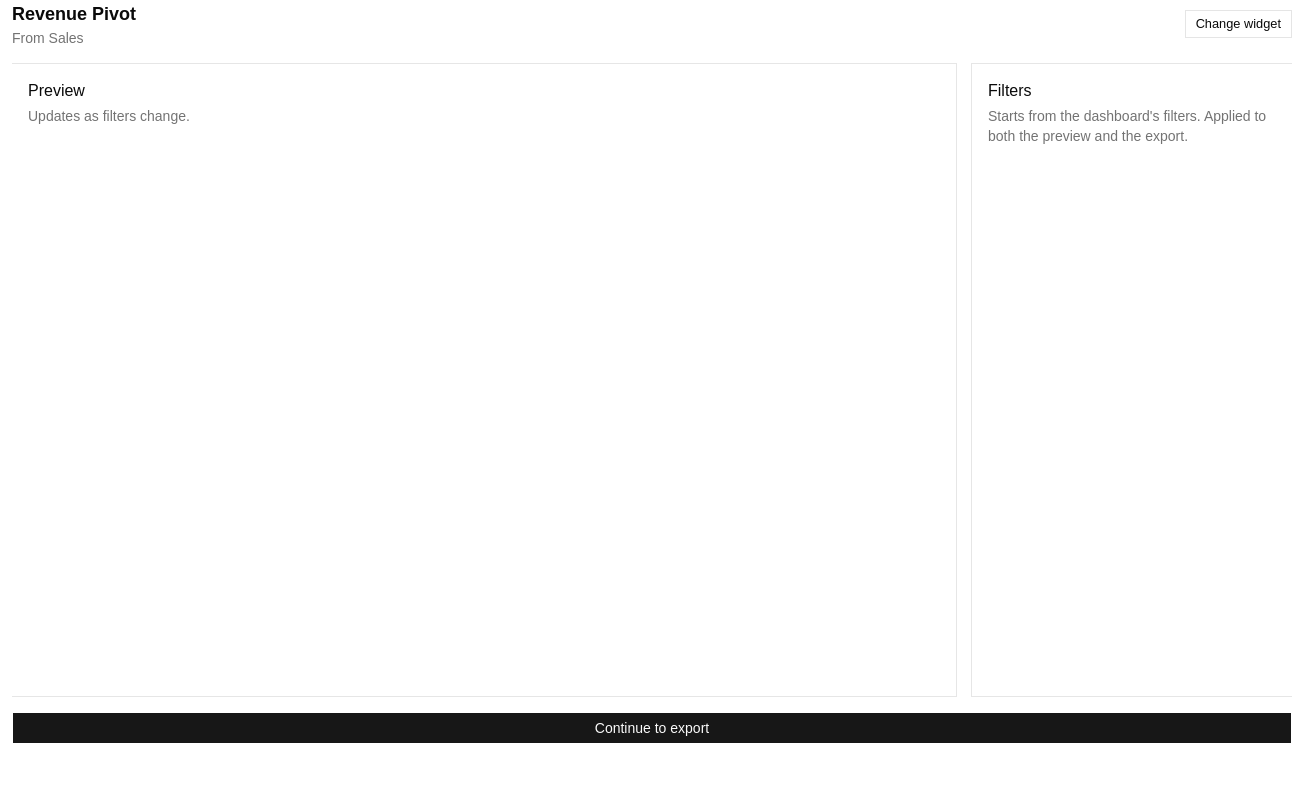
Scenario: WidgetPicker preview › "Change widget" clears the widget, falling back to the combobox
The width and height of the screenshot is (1304, 800).
What coordinates should you click on to do the following:
click the button "Change widget"
I would click on:
 (1238, 24)
Its box is [1185, 10, 1292, 38].
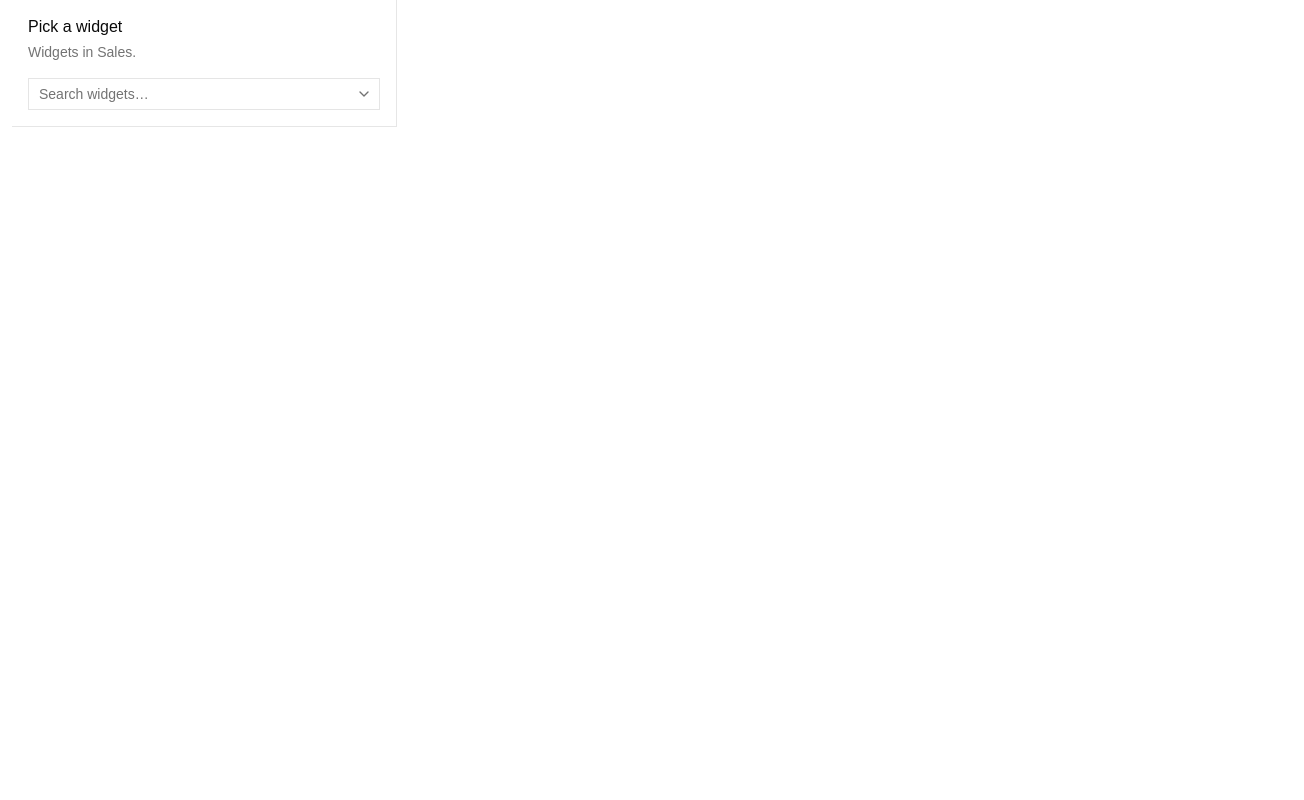
Expected: the dropdown labelled "Search widgets" is shown, [29, 78, 352, 110]
